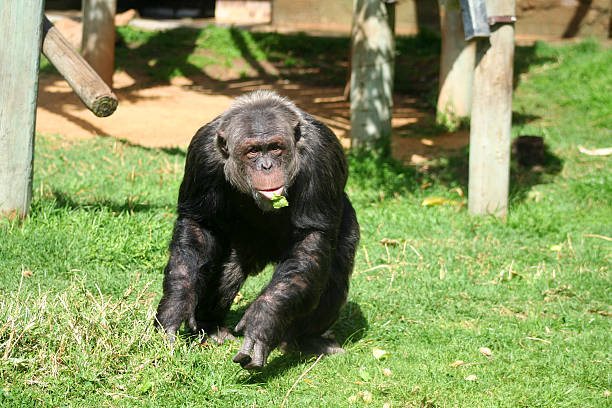chimpanzee: (186, 74, 319, 227)
